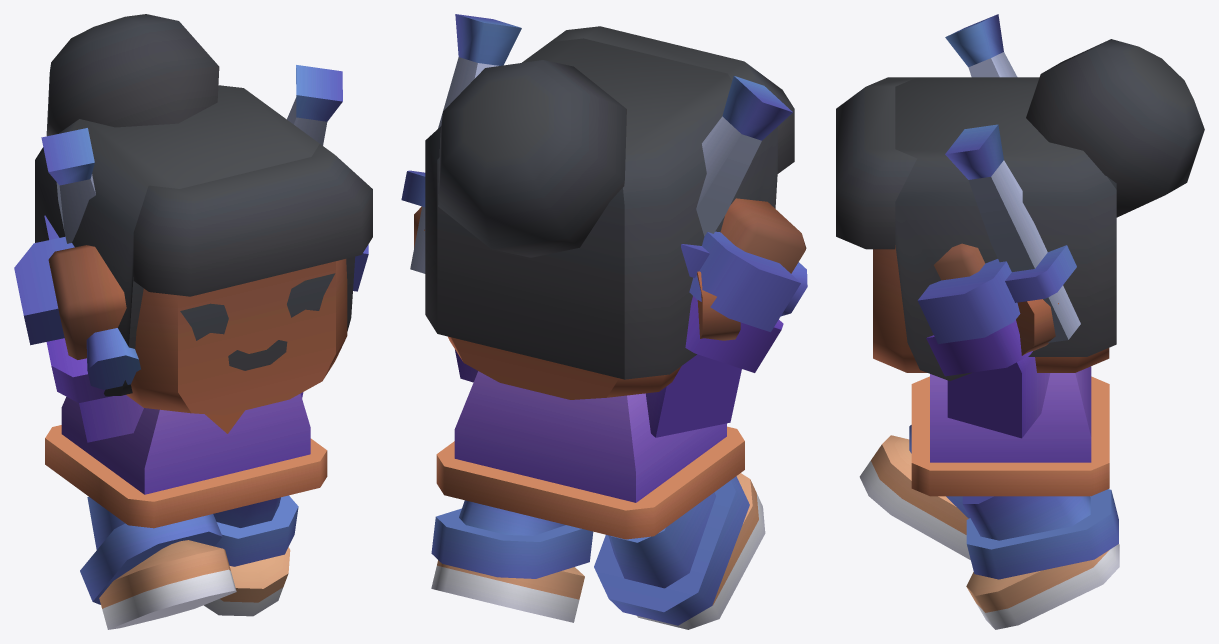
File: walker-female-a-walk-b.glb
3 views of the same model, side by side, from view 1: azimuth 30°, elevation 25°; view 2: azimuth 150°, elevation 25°; view 3: azimuth 270°, elevation 25° (orthographic). The views are drawn at different scales.
Visible parts, largest first — view 1: character-female-a-walk-b; view 2: character-female-a-walk-b; view 3: character-female-a-walk-b.
Boxes of the visible parts, x1=… form: character-female-a-walk-b: x1=14, y1=14, x2=372, y2=629; character-female-a-walk-b: x1=401, y1=14, x2=807, y2=629; character-female-a-walk-b: x1=836, y1=14, x2=1204, y2=629.
Bounding box in the file's own units: 0.5097 × 0.8165 × 0.4995.
1 material, 1 textured.
